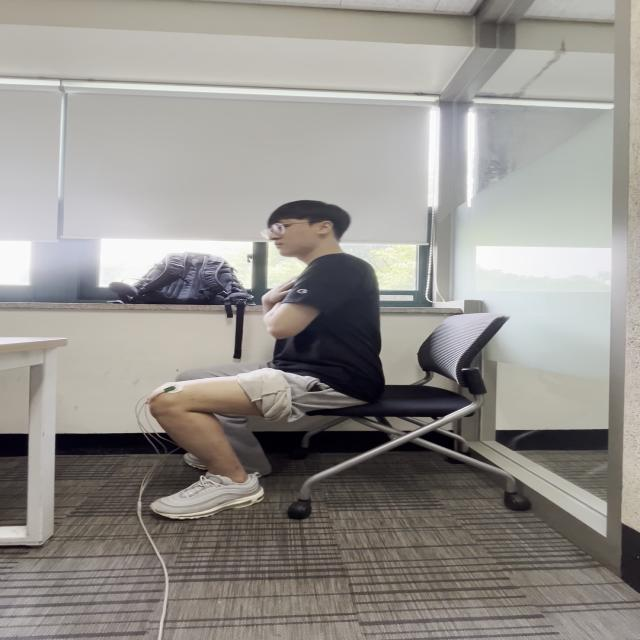squat: (134, 368, 363, 518), (249, 258, 393, 422), (154, 352, 394, 433)
